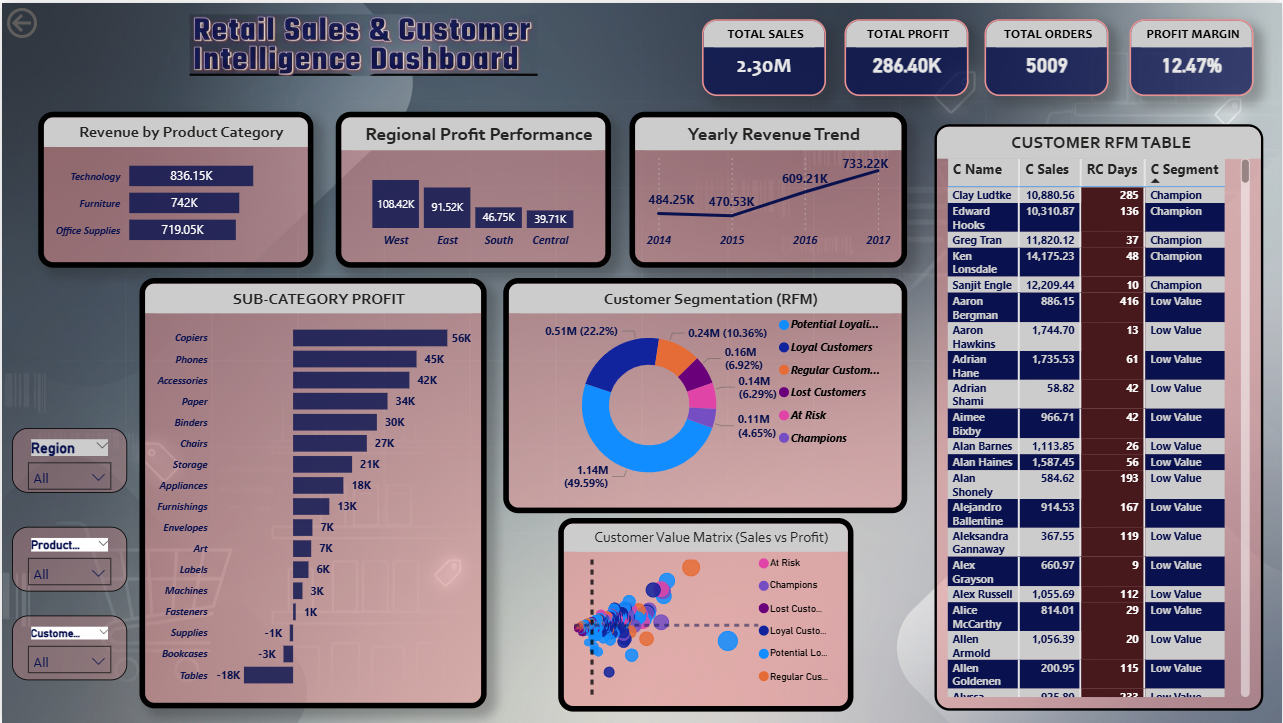

The page's visual inventory and layout, read from the dashboard file:
{"tool":"powerbi","page":{"name":"Page 1","canvas":[1280,720],"ordinal":0},"visuals":[{"type":"card","title":"TOTAL SALES","fields":{"Values":["retail_bi customers.Total Sales"]},"box":[700,16.5,124.3,77.1],"z":0},{"type":"card","title":"TOTAL PROFIT","fields":{"Values":["retail_bi customers.Total Profit"]},"box":[842.9,16.5,124.3,77.1],"z":1000},{"type":"card","title":"TOTAL ORDERS","fields":{"Values":["retail_bi customers.Total Orders"]},"box":[982.9,16.5,124.3,77.1],"z":2000},{"type":"card","title":"PROFIT MARGIN","fields":{"Values":["retail_bi customers.Profit Margin"]},"box":[1127.1,16.5,124.3,77.1],"z":3000},{"type":"barChart","title":"Revenue by Product Category","fields":{"Category":["retail_bi products.category"],"Y":["Sum(retail_bi order_details.sales)"]},"box":[36.2,108.8,275,156.2],"z":4000},{"type":"actionButton","box":[0,0,100,40],"z":5000},{"type":"clusteredColumnChart","title":"Regional Profit Performance","fields":{"Category":["retail_bi geography.region"],"Y":["Sum(retail_bi order_details.profit)"]},"box":[333.8,108.8,275,156.2],"z":6000},{"type":"lineChart","title":"Yearly Revenue Trend","fields":{"Category":["retail_bi orders.order_date.Variation.Date Hierarchy.Year","retail_bi orders.order_date.Variation.Date Hierarchy.Quarter","retail_bi orders.order_date.Variation.Date Hierarchy.Month","retail_bi orders.order_date.Variation.Date Hierarchy.Day"],"Y":["Sum(retail_bi order_details.sales)"]},"box":[627.5,108.8,277.5,156.2],"z":7000},{"type":"barChart","title":"SUB-CATEGORY PROFIT","fields":{"Category":["retail_bi products.sub_category"],"Y":["Sum(retail_bi order_details.profit)"]},"box":[137.5,275,347.5,430],"z":8000},{"type":"slicer","fields":{"Values":["retail_bi geography.region"]},"box":[10,425,115,65],"z":9000},{"type":"slicer","fields":{"Values":["retail_bi products.category"]},"box":[10,523.8,115,65],"z":10000},{"type":"slicer","fields":{"Values":["retail_bi customers.segment"]},"box":[10,612.5,115,65],"z":11000},{"type":"tableEx","title":"CUSTOMER RFM TABLE","fields":{"Values":["retail_bi customers.customer_name","retail_bi customers.Customer Sales","retail_bi customers.Recency Days","retail_bi customers.Customer Segment"]},"box":[932.5,121.8,328.8,586.2],"z":12000},{"type":"donutChart","title":"Customer Segmentation (RFM)","fields":{"Category":["retail_bi customers.RFM Segment"],"Y":["retail_bi customers.Customer Sales"]},"box":[501.2,275,403.8,235],"z":13000},{"type":"scatterChart","title":"Customer Value Matrix (Sales vs Profit)","fields":{"X":["retail_bi customers.Customer Sales"],"Y":["retail_bi customers.Customer Profit"],"Series":["retail_bi customers.RFM Segment"],"Size":["retail_bi customers.Customer Sales"],"Category":["retail_bi customers.customer_name"]},"box":[556.2,515,295,193.8],"z":14000},{"type":"image","box":[50,11.9,622.5,61.2],"z":15000}]}

Visuals, with their boxes in screenshot pixels (x1, y1, x2, y2), scaled from the page's 1280x720 canvas onto the 1283x723 screenshot:
"TOTAL SALES" card: select_region(702, 17, 826, 94)
"TOTAL PROFIT" card: select_region(845, 17, 969, 94)
"TOTAL ORDERS" card: select_region(985, 17, 1110, 94)
"PROFIT MARGIN" card: select_region(1130, 17, 1254, 94)
"Revenue by Product Category" barChart: select_region(36, 109, 312, 266)
actionButton: select_region(0, 0, 100, 40)
"Regional Profit Performance" clusteredColumnChart: select_region(335, 109, 610, 266)
"Yearly Revenue Trend" lineChart: select_region(629, 109, 907, 266)
"SUB-CATEGORY PROFIT" barChart: select_region(138, 276, 486, 708)
slicer - retail_bi geography.region: select_region(10, 427, 125, 492)
slicer - retail_bi products.category: select_region(10, 526, 125, 591)
slicer - retail_bi customers.segment: select_region(10, 615, 125, 680)
"CUSTOMER RFM TABLE" tableEx: select_region(935, 122, 1264, 711)
"Customer Segmentation (RFM)" donutChart: select_region(502, 276, 907, 512)
"Customer Value Matrix (Sales vs Profit)" scatterChart: select_region(558, 517, 853, 712)
image: select_region(50, 12, 674, 73)
